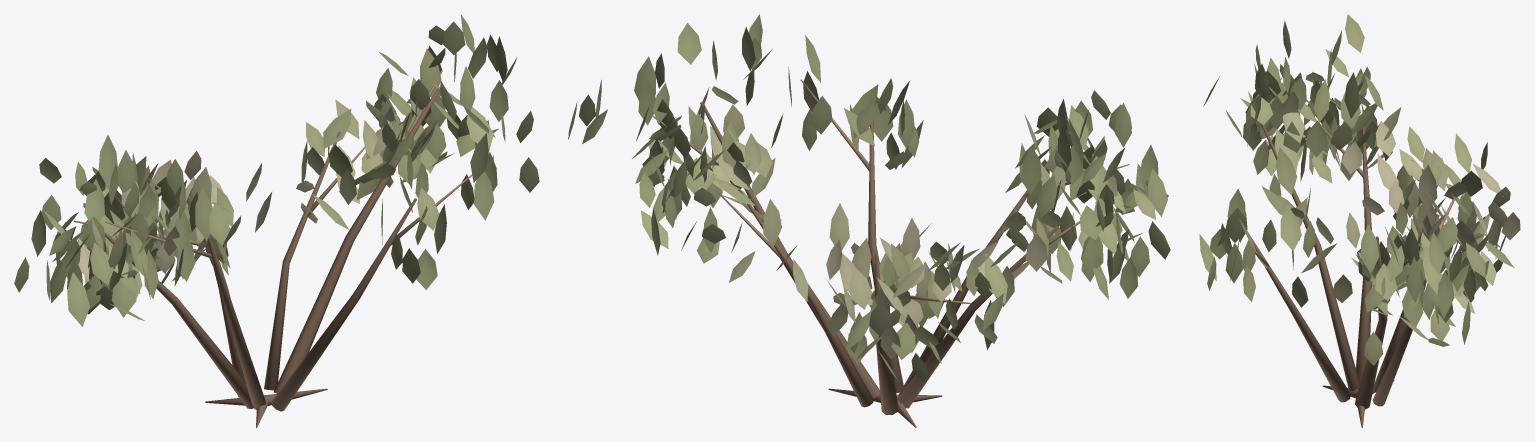
File: bush_3d_02.glb
3 views of the same model, side by side, from view 1: azimuth 30°, elevation 25°; view 2: azimuth 150°, elevation 25°; view 3: azimuth 270°, elevation 25° (orthographic). The views are drawn at different scales.
Parts seen in each view (by area): view 1: bush_3d_02_foliage, bush_3d_02_wood; view 2: bush_3d_02_foliage, bush_3d_02_wood; view 3: bush_3d_02_foliage, bush_3d_02_wood.
Boxes of the visible parts, box(x1,y1,x2,y2) form: bush_3d_02_foliage: box(14, 15, 539, 326); bush_3d_02_wood: box(73, 70, 472, 427); bush_3d_02_foliage: box(568, 14, 1170, 382); bush_3d_02_wood: box(653, 79, 1129, 427); bush_3d_02_foliage: box(1199, 14, 1520, 365); bush_3d_02_wood: box(1246, 120, 1454, 427).
Size of the model in its own units: 2.78 by 1.62 by 1.6.
